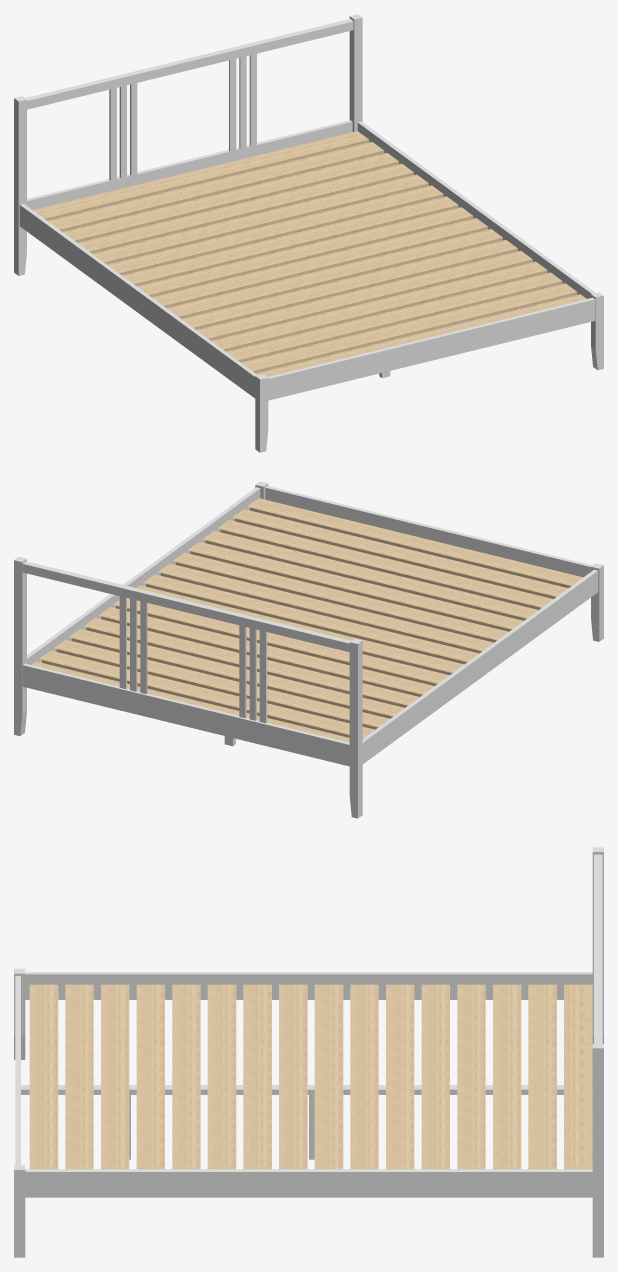
3 views of the same model, one above another, from view 1: azimuth 30°, elevation 25°; view 2: azimuth 150°, elevation 25°; view 3: azimuth 270°, elevation 25° (orthographic). The views are drawn at different scales.
Visible parts, largest first — view 1: Mesh16 Model, Mesh8 Beam_1_8 Model, Mesh14 Beam_1_14 Model, Mesh4 Beam_1_4 Model, Mesh5 Beam_1_5 Model, Mesh6 Beam_1_6 Model, Mesh7 Beam_1_7 Model, Mesh11 Beam_1_11 Model, Mesh12 Beam_1_12 Model, Mesh13 Beam_1_13 Model, Mesh1 Beam_1_1 Model, Mesh3 Beam_1_3 Model (+4 smaller); view 2: Mesh16 Model, Mesh9 Beam_1_9 Model, Mesh10 Beam_1_10 Model, Mesh11 Beam_1_11 Model, Mesh8 Beam_1_8 Model, Mesh12 Beam_1_12 Model, Mesh13 Beam_1_13 Model, Mesh14 Beam_1_14 Model, Mesh15 Beam_1_15 Model, Mesh3 Beam_1_3 Model, Mesh5 Beam_1_5 Model, Mesh1 Beam_1_1 Model (+4 smaller); view 3: Mesh16 Model, Mesh7 Beam_1_7 Model, Mesh10 Beam_1_10 Model, Mesh15 Beam_1_15 Model, Mesh1 Beam_1_1 Model, Mesh3 Beam_1_3 Model, Mesh6 Beam_1_6 Model, Mesh8 Beam_1_8 Model, Mesh9 Beam_1_9 Model, Mesh11 Beam_1_11 Model, Mesh14 Beam_1_14 Model, Mesh2 Beam_1_2 Model (+4 smaller).
Part boxes in pixels (x1,y1,x2,y2): Mesh16 Model: (14, 14, 603, 452); Mesh8 Beam_1_8 Model: (152, 218, 488, 307); Mesh14 Beam_1_14 Model: (241, 283, 577, 373); Mesh4 Beam_1_4 Model: (92, 174, 428, 264); Mesh5 Beam_1_5 Model: (107, 185, 443, 275); Mesh6 Beam_1_6 Model: (122, 196, 458, 286); Mesh7 Beam_1_7 Model: (137, 207, 473, 297); Mesh11 Beam_1_11 Model: (196, 250, 532, 340); Mesh12 Beam_1_12 Model: (211, 261, 547, 351); Mesh13 Beam_1_13 Model: (226, 272, 562, 362); Mesh1 Beam_1_1 Model: (48, 142, 384, 231); Mesh3 Beam_1_3 Model: (77, 163, 413, 253); Mesh16 Model: (14, 481, 603, 818); Mesh9 Beam_1_9 Model: (158, 563, 493, 653); Mesh10 Beam_1_10 Model: (173, 552, 508, 642); Mesh11 Beam_1_11 Model: (188, 541, 523, 631); Mesh8 Beam_1_8 Model: (143, 574, 478, 664); Mesh12 Beam_1_12 Model: (202, 531, 538, 620); Mesh13 Beam_1_13 Model: (217, 520, 553, 609); Mesh14 Beam_1_14 Model: (232, 509, 568, 598); Mesh15 Beam_1_15 Model: (247, 498, 582, 587); Mesh3 Beam_1_3 Model: (69, 628, 404, 718); Mesh5 Beam_1_5 Model: (98, 607, 434, 696); Mesh1 Beam_1_1 Model: (39, 650, 374, 738); Mesh16 Model: (14, 847, 603, 1257); Mesh7 Beam_1_7 Model: (314, 984, 343, 1169); Mesh10 Beam_1_10 Model: (207, 984, 236, 1169); Mesh15 Beam_1_15 Model: (29, 984, 58, 1169); Mesh1 Beam_1_1 Model: (528, 984, 556, 1169); Mesh3 Beam_1_3 Model: (457, 984, 485, 1169); Mesh6 Beam_1_6 Model: (350, 984, 378, 1169); Mesh8 Beam_1_8 Model: (279, 984, 307, 1169); Mesh9 Beam_1_9 Model: (243, 984, 271, 1169); Mesh11 Beam_1_11 Model: (172, 984, 200, 1169); Mesh14 Beam_1_14 Model: (65, 984, 93, 1169); Mesh2 Beam_1_2 Model: (493, 984, 521, 1169).
Bounding box in the file's own units: 1670 × 810 × 2070.
